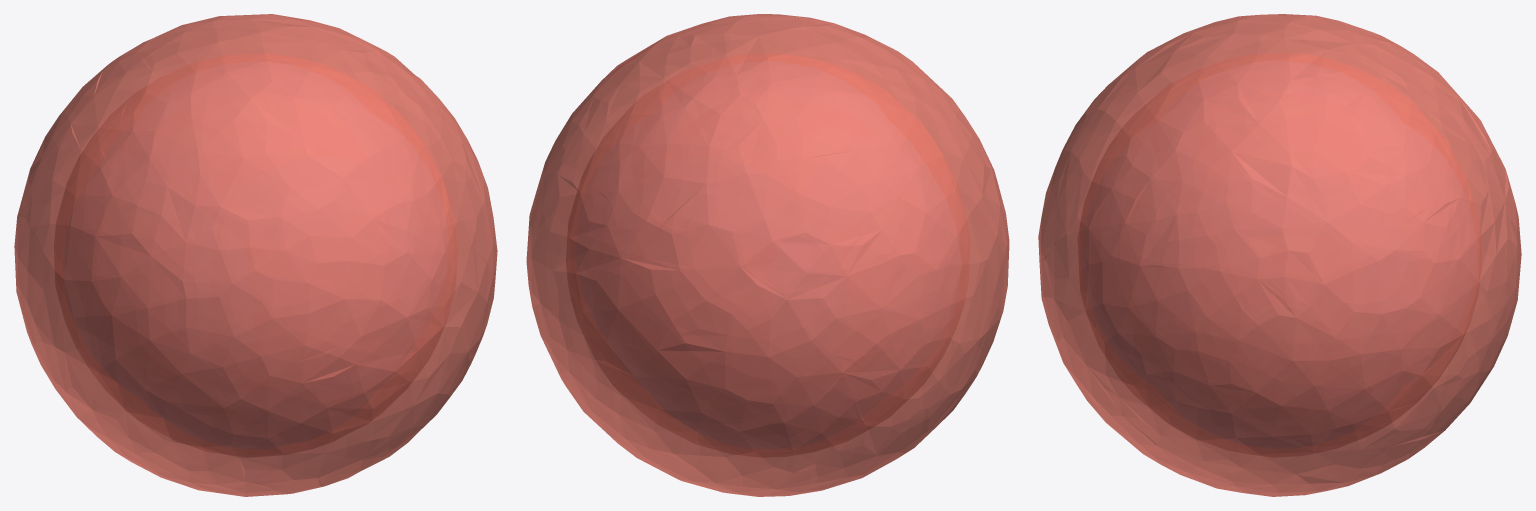
File: orbital.glb
The picture shows the model from 3 angles, left to right: view 1: azimuth 30°, elevation 25°; view 2: azimuth 150°, elevation 25°; view 3: azimuth 270°, elevation 25°; orthographic projection.
Visible parts, largest first — view 1: Pr_n6_s_ml0_node, Pr_n5_s_ml0_node; view 2: Pr_n6_s_ml0_node, Pr_n5_s_ml0_node; view 3: Pr_n6_s_ml0_node, Pr_n5_s_ml0_node.
Boxes of the visible parts, x1,y1,x2,y2 form: Pr_n6_s_ml0_node: [14, 14, 497, 496]; Pr_n5_s_ml0_node: [54, 53, 457, 457]; Pr_n6_s_ml0_node: [526, 14, 1009, 496]; Pr_n5_s_ml0_node: [566, 53, 969, 457]; Pr_n6_s_ml0_node: [1038, 14, 1521, 496]; Pr_n5_s_ml0_node: [1078, 53, 1481, 457].
Bounding box in the file's own units: 3.06 × 3.06 × 3.06.
